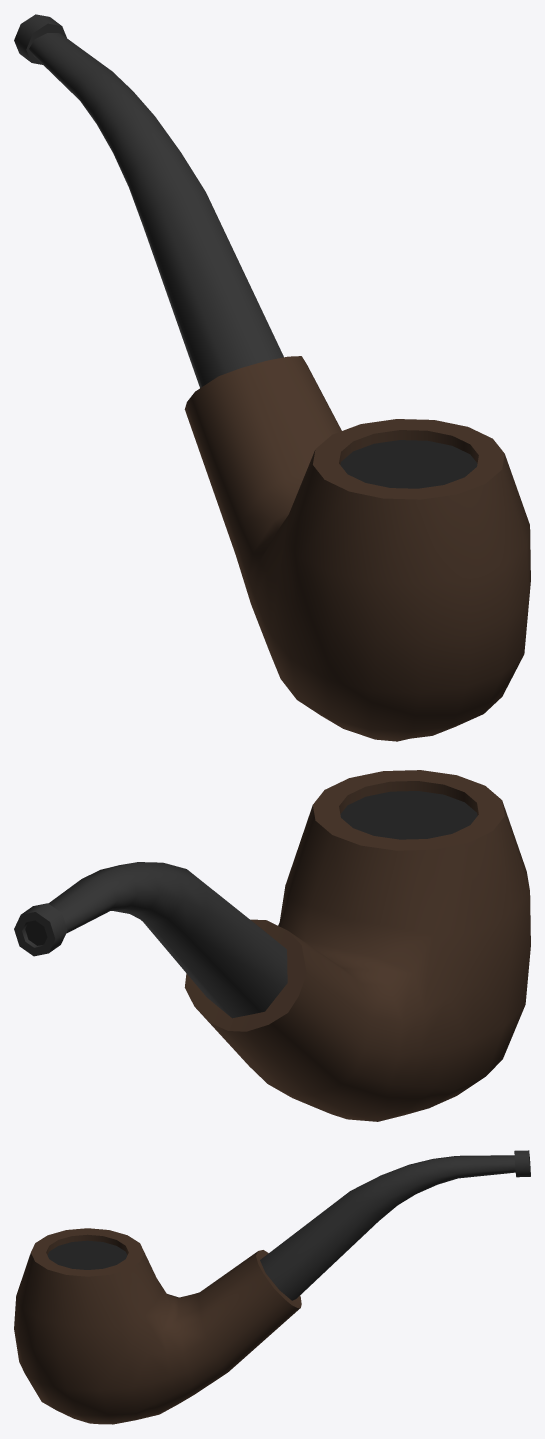
The model's file is TobbacoPipe_01.fbx.
The picture shows the model from 3 angles, top to bottom: view 1: azimuth 30°, elevation 25°; view 2: azimuth 150°, elevation 25°; view 3: azimuth 270°, elevation 25°; orthographic projection. The views are drawn at different scales.
Parts seen in each view (by area): view 1: TobbacoPipe_01; view 2: TobbacoPipe_01; view 3: TobbacoPipe_01.
Part boxes in pixels (bbox=[...]): TobbacoPipe_01: bbox=[14, 14, 530, 741]; TobbacoPipe_01: bbox=[14, 770, 530, 1121]; TobbacoPipe_01: bbox=[14, 1150, 530, 1424].
Bounding box in the file's own units: 0.0765 × 0.1543 × 0.2703.
